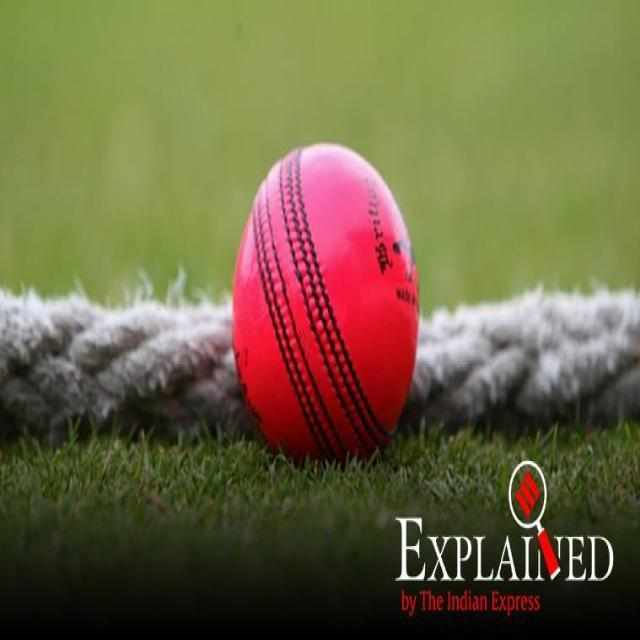cricket ball: (231, 142, 419, 462)
